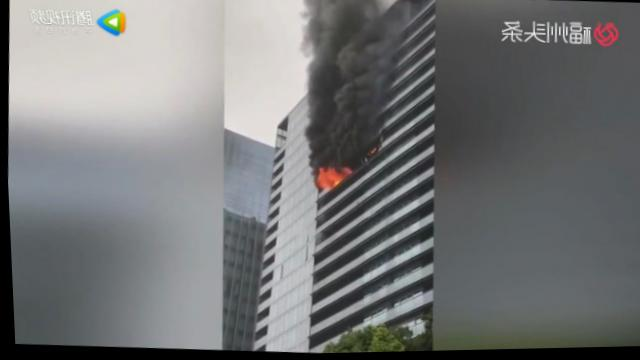fire: (317, 167, 350, 191)
